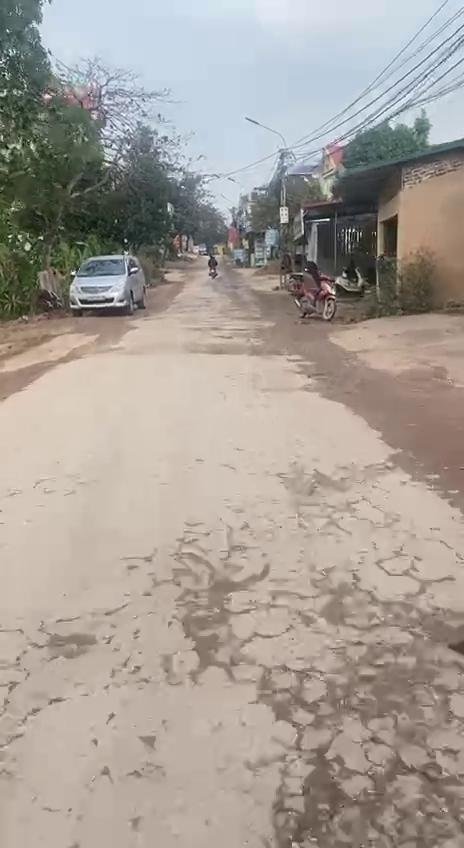pothole: (260, 582, 464, 756), (263, 755, 464, 848), (162, 544, 256, 678)
